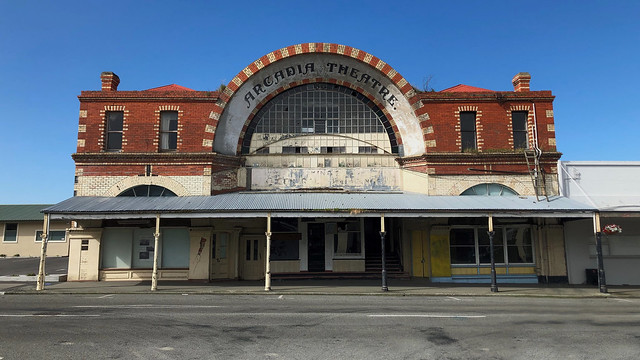medium: (41, 68, 574, 301)
